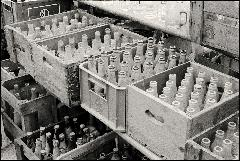glass: (86, 36, 186, 88), (146, 66, 232, 116), (42, 28, 140, 62), (25, 116, 100, 160), (17, 12, 101, 40)
